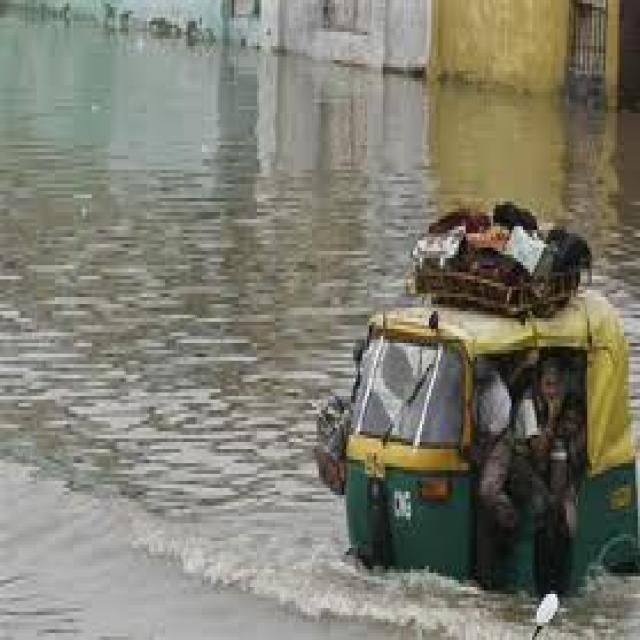auto_front: (317, 228, 635, 610)
